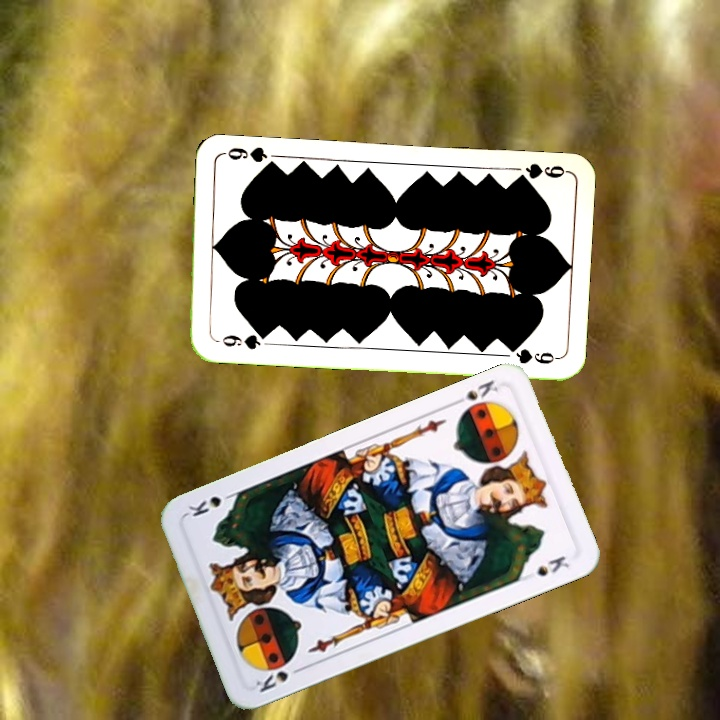G9: (510, 159, 569, 185), (211, 329, 270, 352)
SK: (251, 662, 307, 695), (448, 376, 501, 409)
